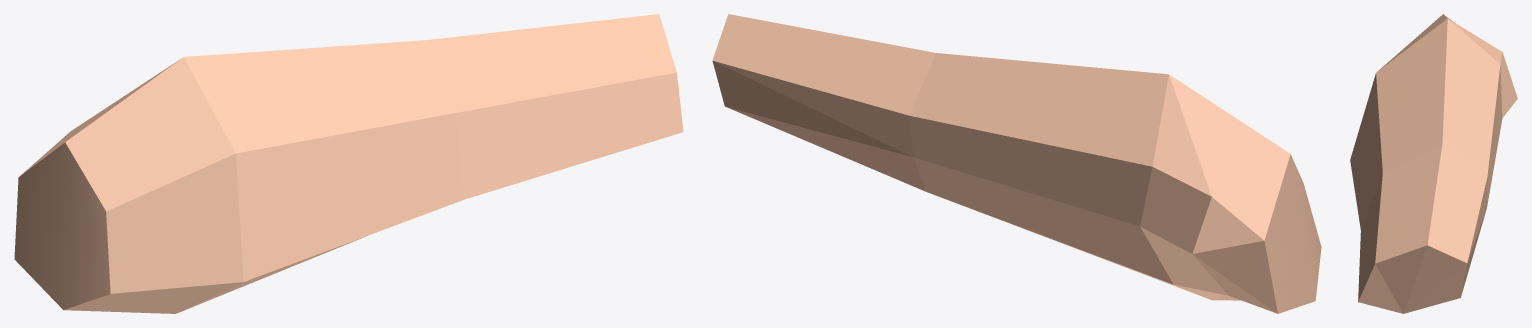
The model's file is Chr_ArmLowerLeft_Female_00_Static.fbx.
The picture shows the model from 3 angles, left to right: view 1: azimuth 30°, elevation 25°; view 2: azimuth 150°, elevation 25°; view 3: azimuth 270°, elevation 25°; orthographic projection. The views are drawn at different scales.
Parts seen in each view (by area): view 1: Chr_ArmLowerLeft_Female_00_Static; view 2: Chr_ArmLowerLeft_Female_00_Static; view 3: Chr_ArmLowerLeft_Female_00_Static.
Part boxes in pixels (x1=…): Chr_ArmLowerLeft_Female_00_Static: x1=14, y1=14, x2=683, y2=313; Chr_ArmLowerLeft_Female_00_Static: x1=712, y1=14, x2=1321, y2=313; Chr_ArmLowerLeft_Female_00_Static: x1=1350, y1=14, x2=1517, y2=313.
Bounding box in the file's own units: 0.2903 × 0.1093 × 0.0883.
